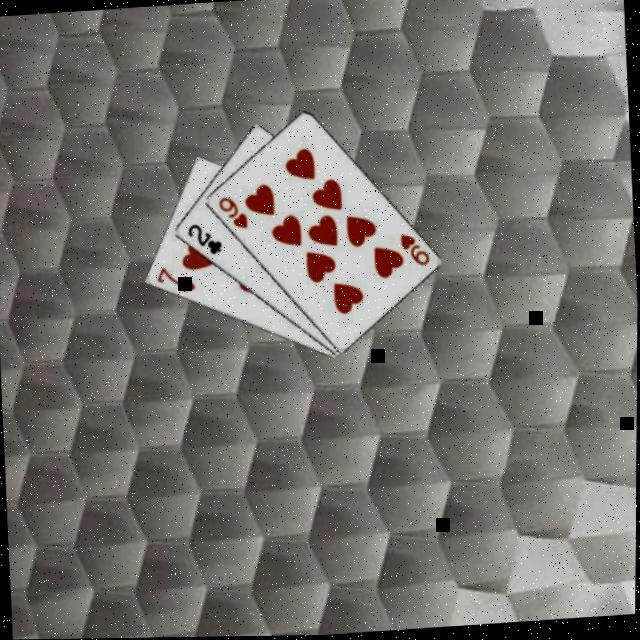2C: (183, 222, 223, 261)
7H: (152, 264, 198, 300)
9H: (212, 196, 248, 236), (395, 232, 431, 272)
